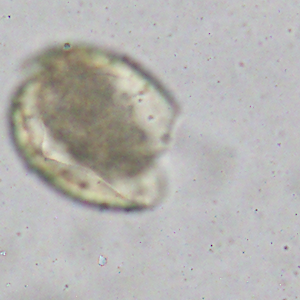Fasciola_hepatica_egg: (8, 38, 183, 215)
